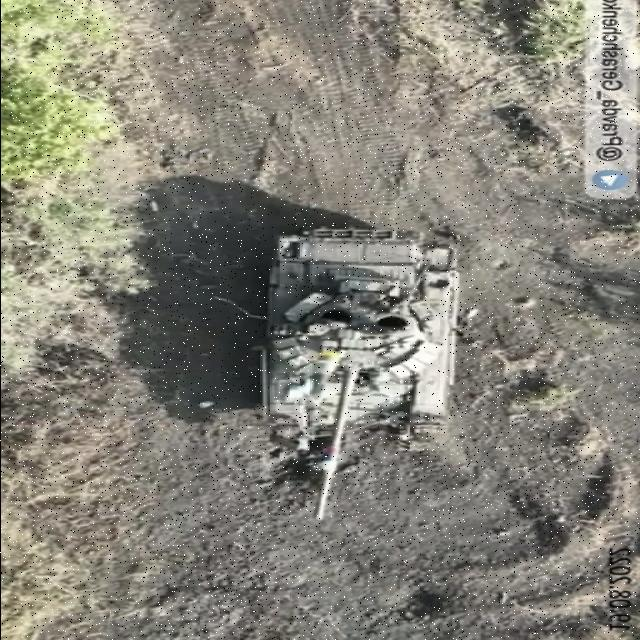TANK: (253, 226, 471, 525)
